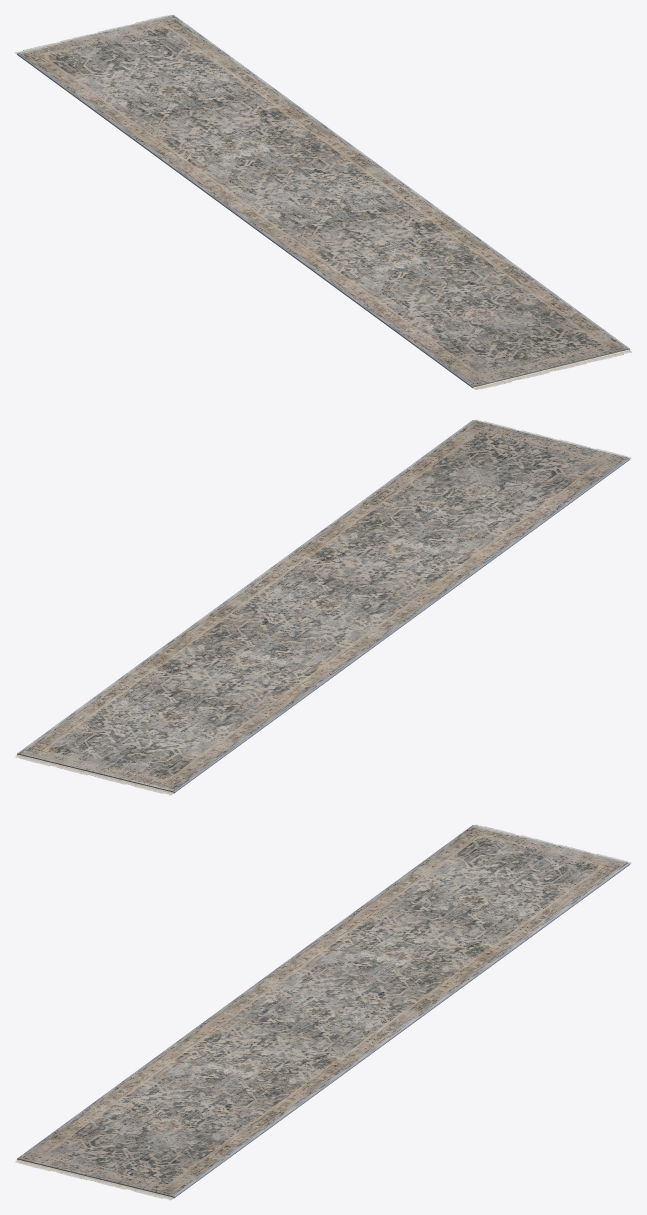
File: tabriz-alvin-runner.glb
3 views of the same model, one above another, from view 1: azimuth 30°, elevation 25°; view 2: azimuth 150°, elevation 25°; view 3: azimuth 330°, elevation 25° (orthographic).
Parts seen in each view (by area): view 1: runner; view 2: runner; view 3: runner.
Boxes of the visible parts, x1,y1,x2,y2 form: runner: (15, 14, 631, 389); runner: (15, 419, 631, 795); runner: (15, 824, 631, 1200).
Bounding box in the file's own units: 0.8 × 0.009 × 4.06.
Materials: 8 (6 with a texture image).
